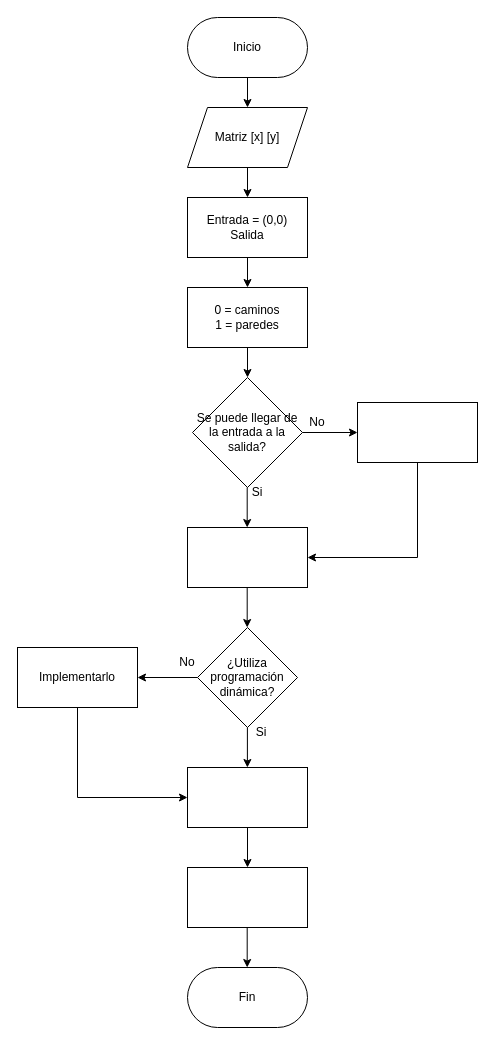
This 495x1045 diagram has some shape labels left out. Here are the shapes that lost their labels. From the top down, the centre of each, then its label:
At point 417,432: "Redefinir matriz".
At point 247,557: "Algoritmo para llegar a la salida".
At point 247,797: "Añadir reglas especiales".
At point 247,897: "crear GUI".
